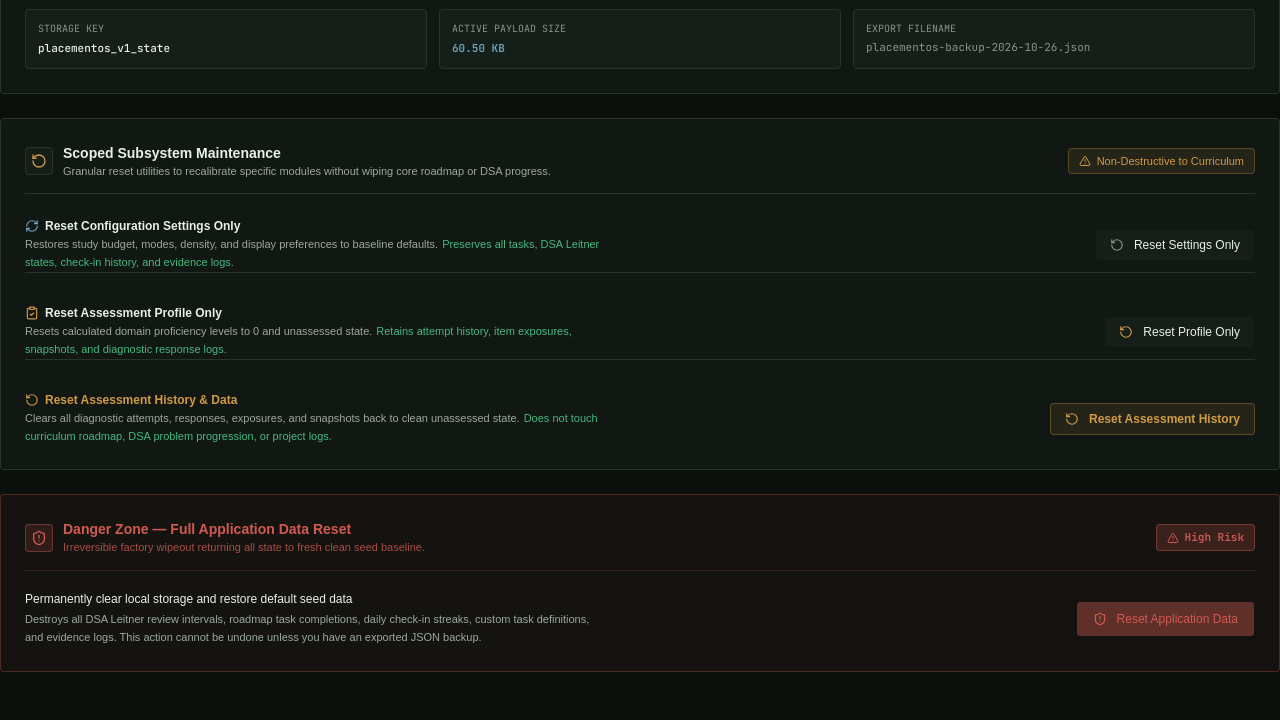
Test: Settings Page UI Manufacturing (Zones 1-6 Verification) › Zone 6: renders isolated Danger Zone and requires exact phrase in ConfirmFullResetModal
(page scrolled)
# Click to open modal
Click the button "Reset Application Data". click: (1165,619)
box: [1076,601,1255,637]
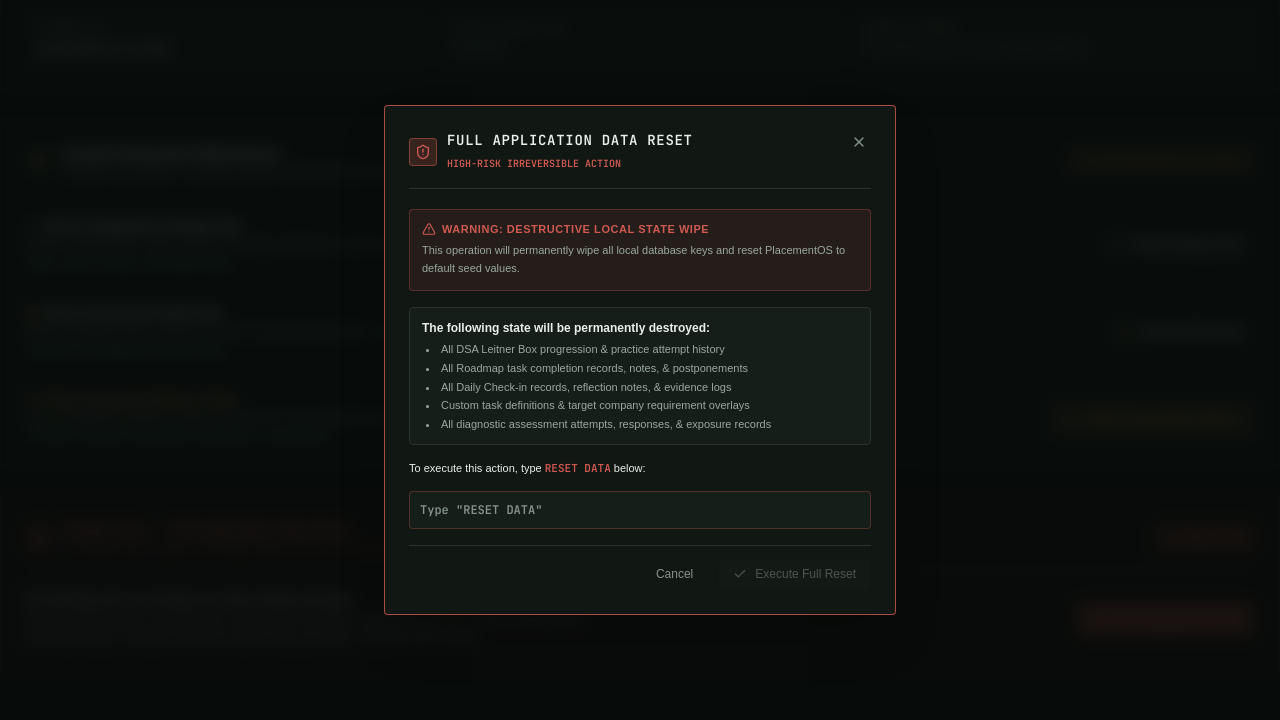
Expected: the dialog is shown
Expected: the heading "Full Application Data Reset" is shown, [447,130,693,150]
Expected: the text "Warning: Destructive Local State Wipe" is shown, [442,222,709,236]
# Typing wrong text leaves button disabled
Type "RESET" into the field named "confirm full reset by typing reset data". click: (640,510)
box: [409,491,871,529]
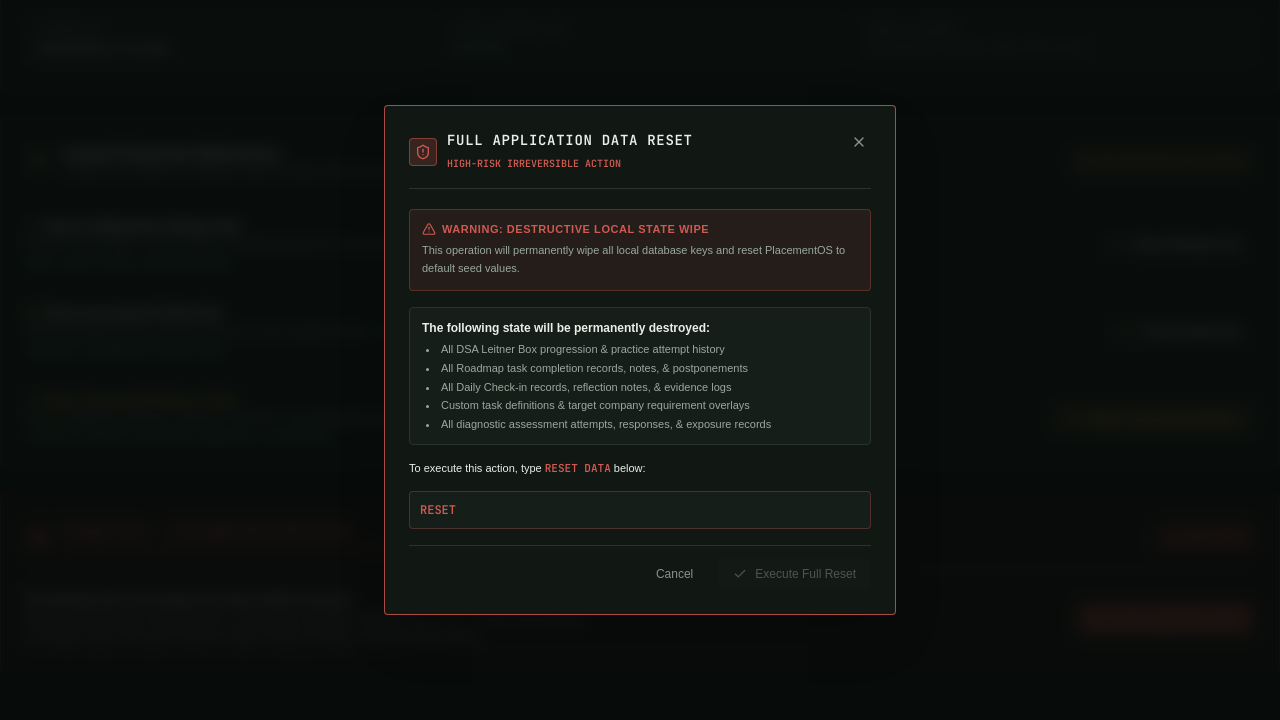
Expected: the button "Execute Full Reset" is disabled, [718,558,871,590]
# Typing exact phrase enables execution button
Replace the text in the field named "confirm full reset by typing reset data" with "RESET DATA". click: (640,510)
box: [409,491,871,529]
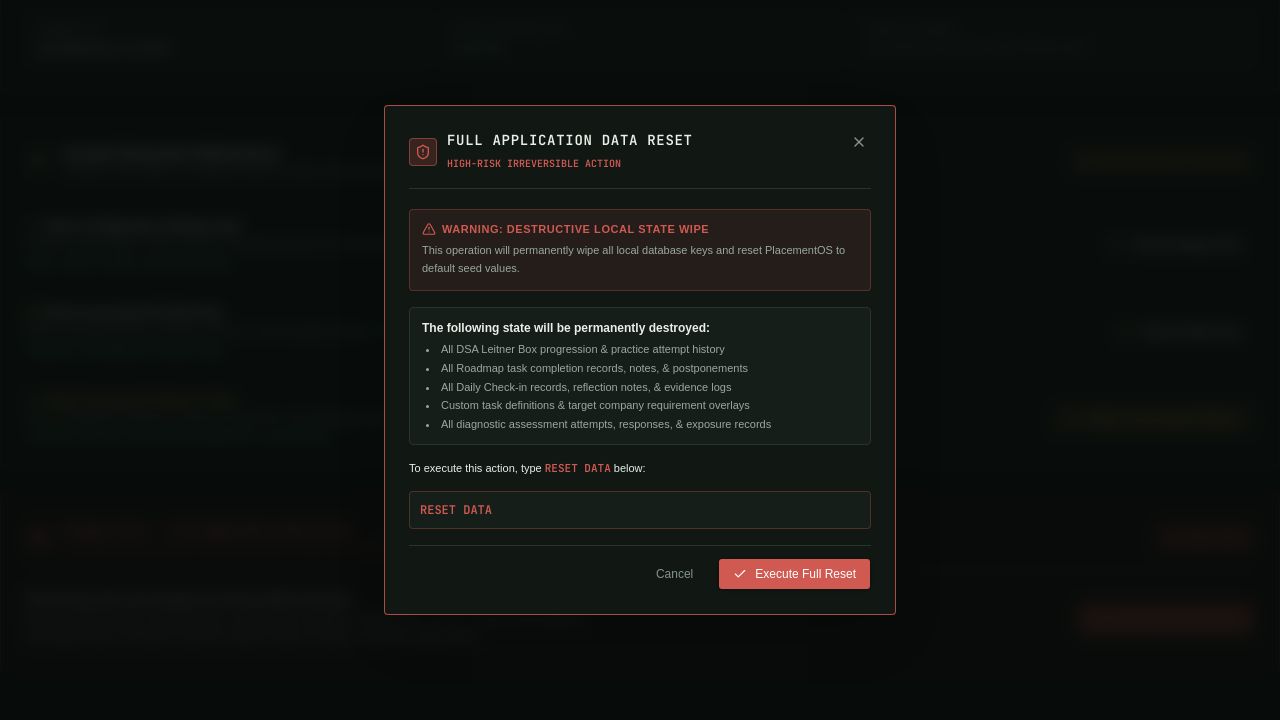
Expected: the button "Execute Full Reset" is enabled
# Submitting executes reset and closes modal
Click the button "Execute Full Reset". click: (795,574)
box: [718,558,871,590]
(page scrolled)
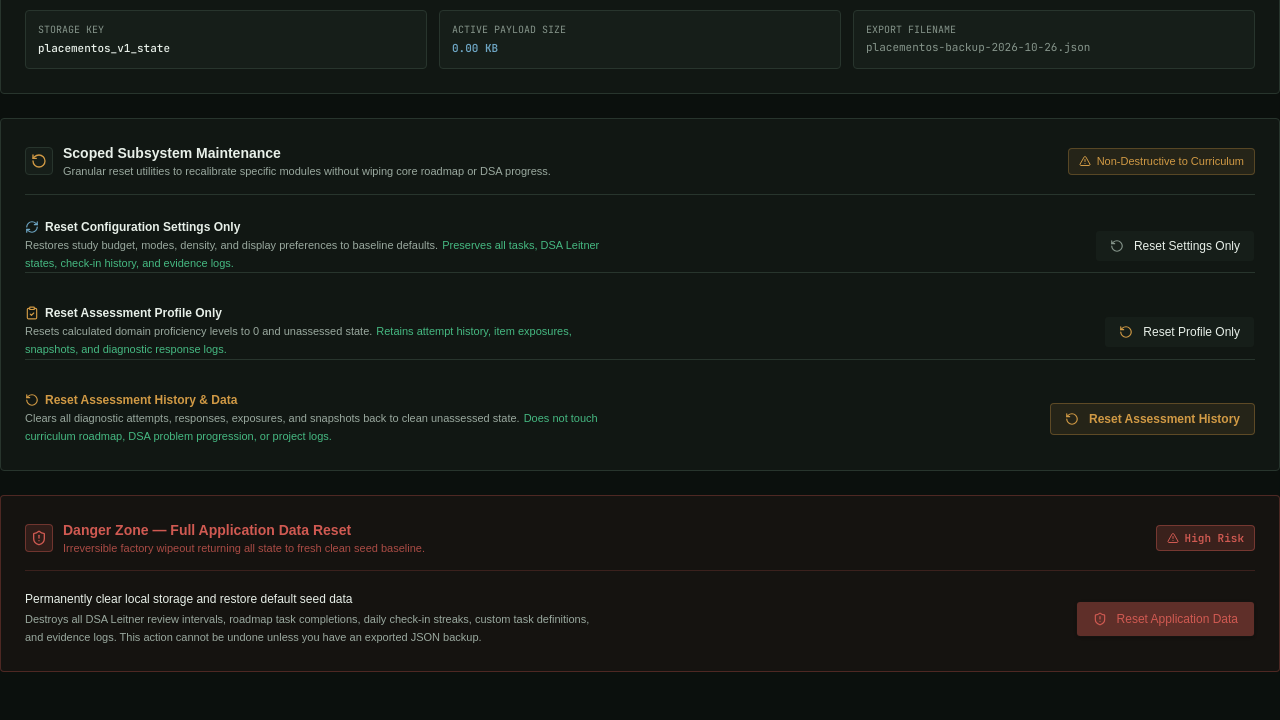
Expected: the dialog is gone
